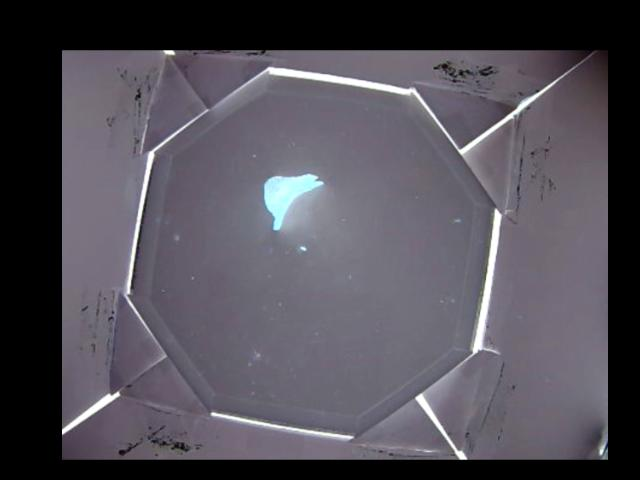Brisk: (264, 172, 326, 230)
